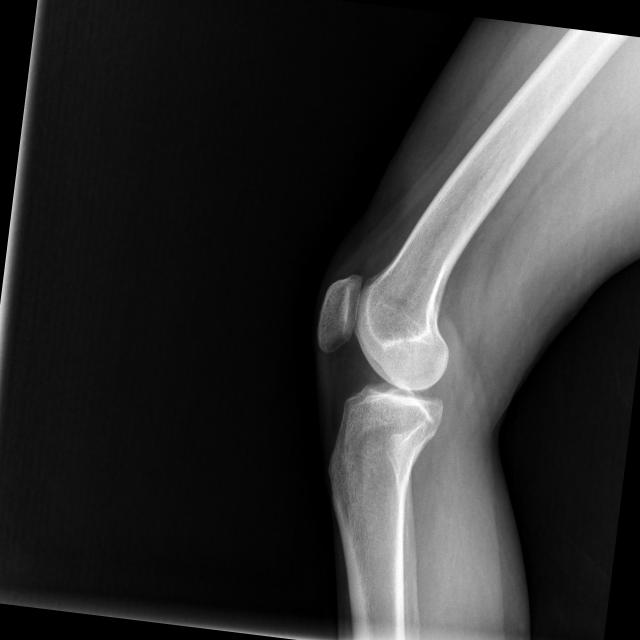Knee: (296, 266, 458, 470)
